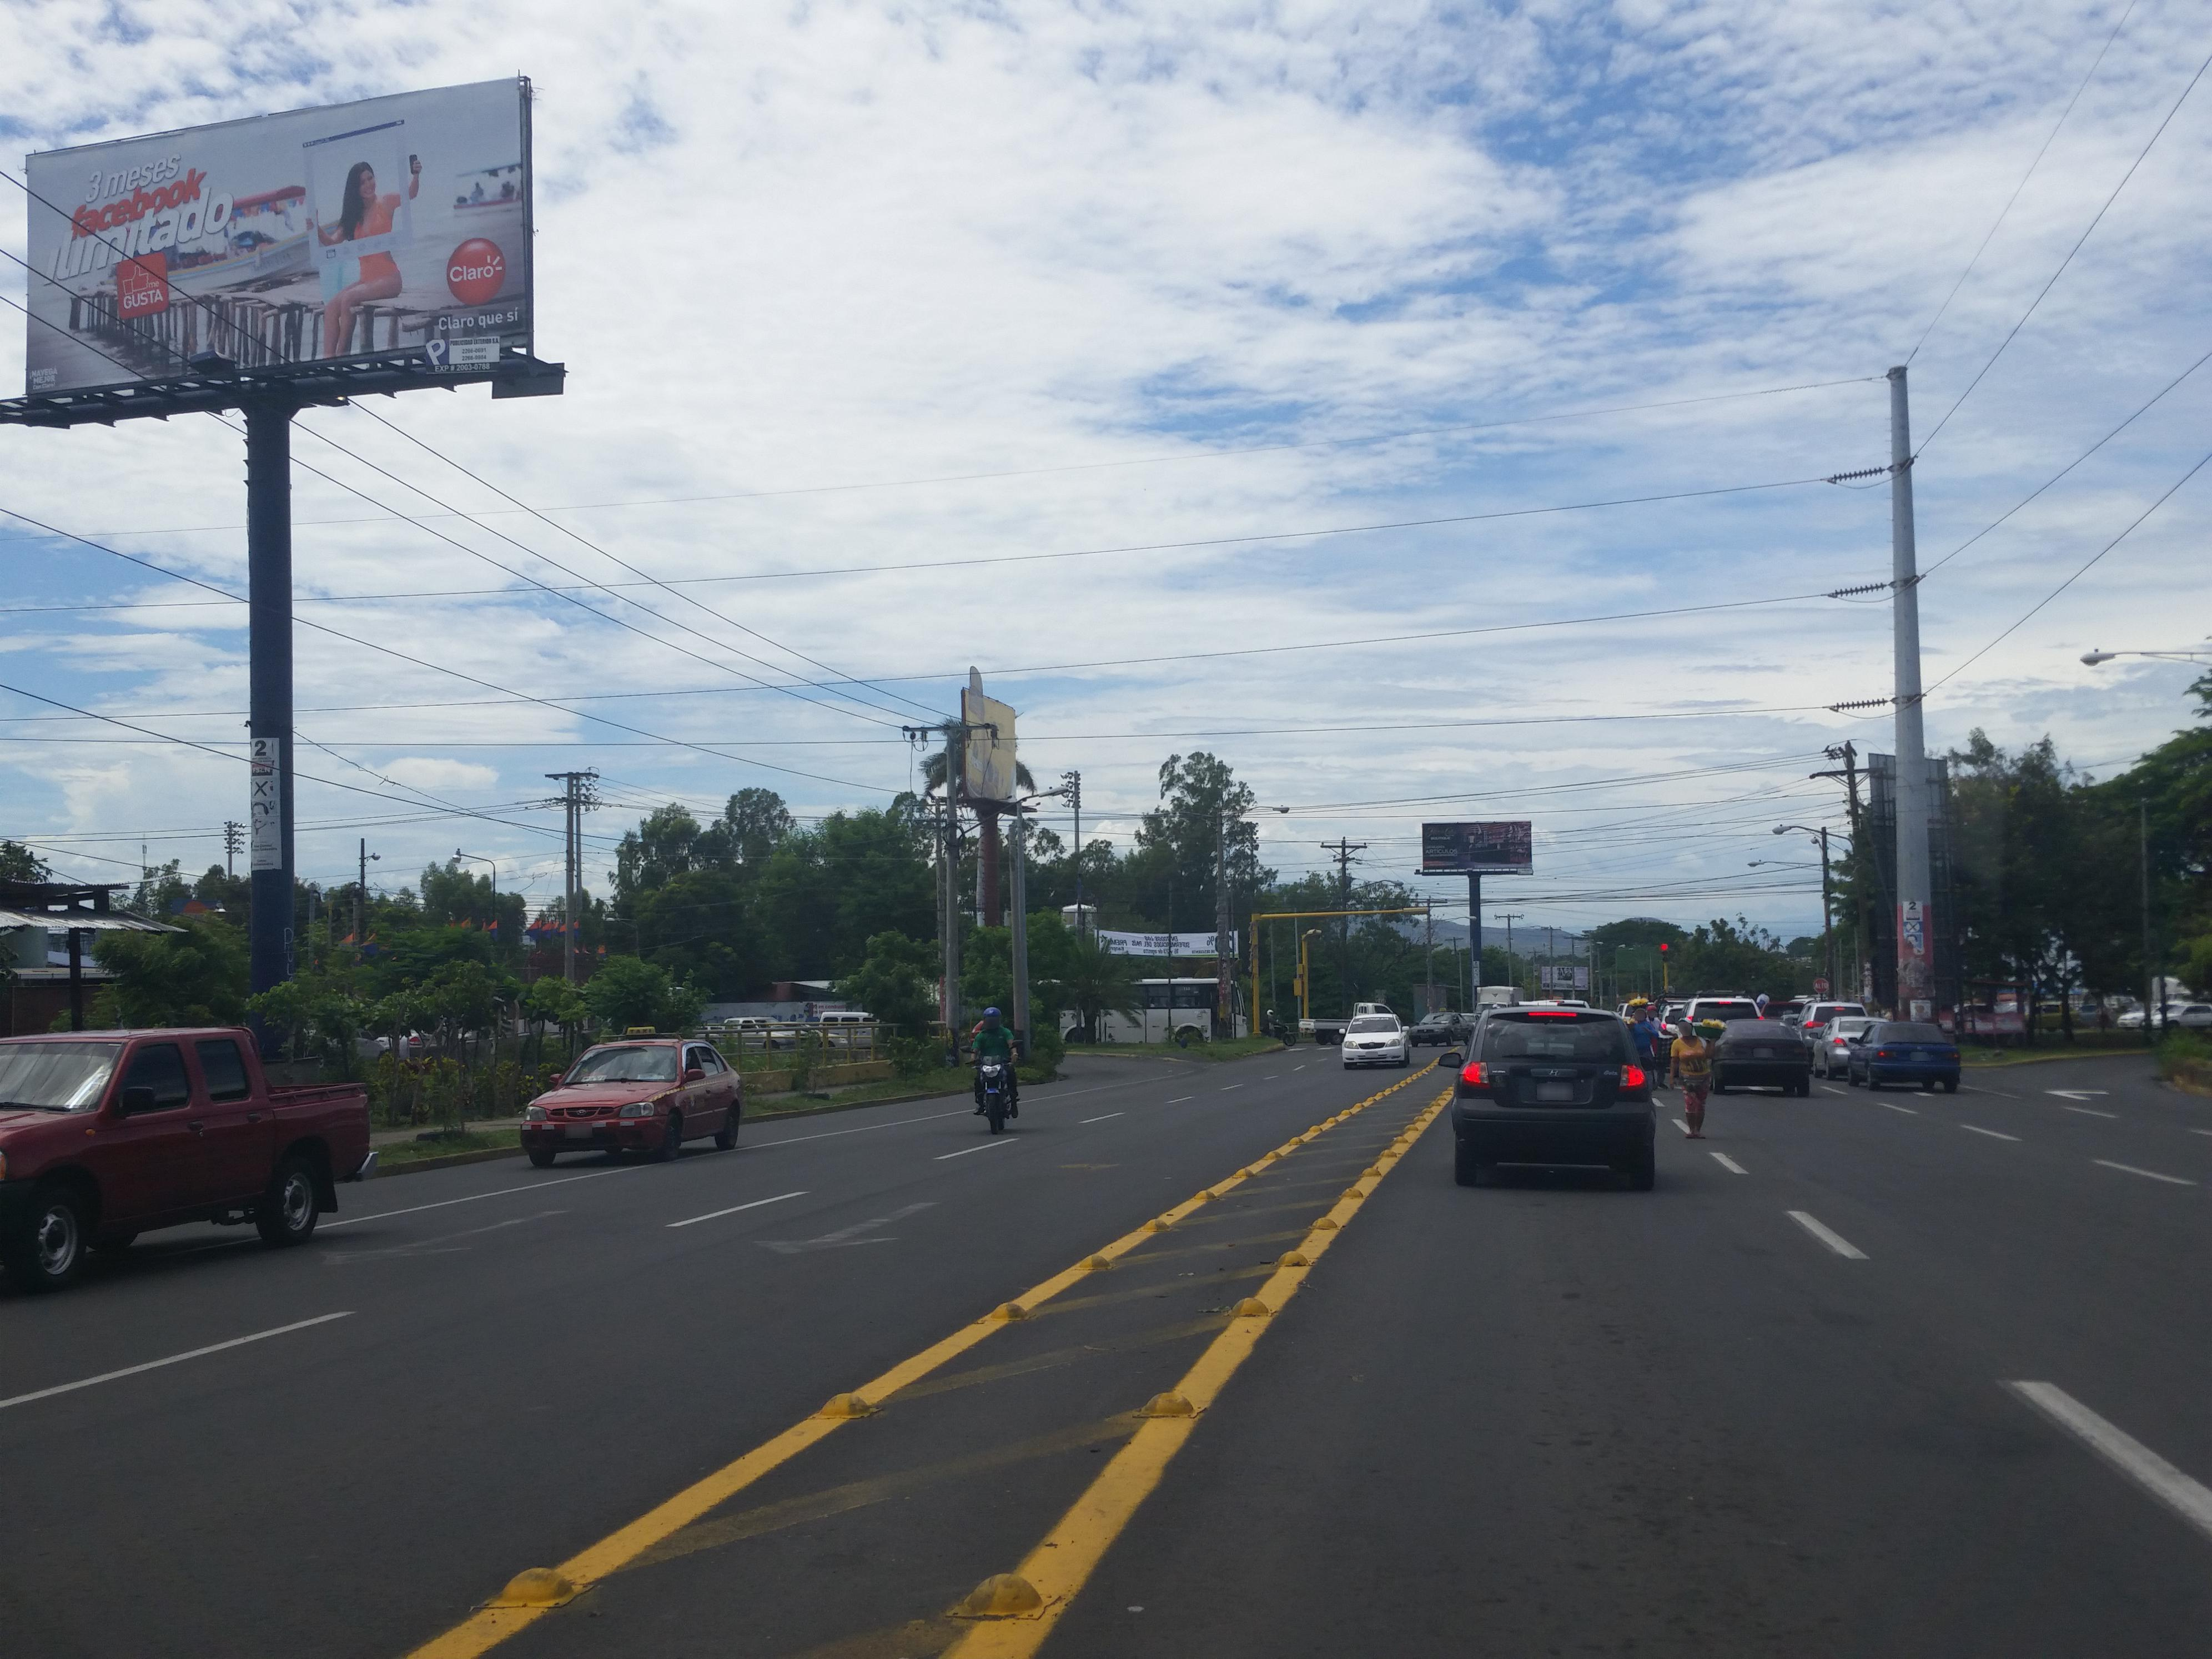vinyl banner: (1082, 913, 1254, 972)
